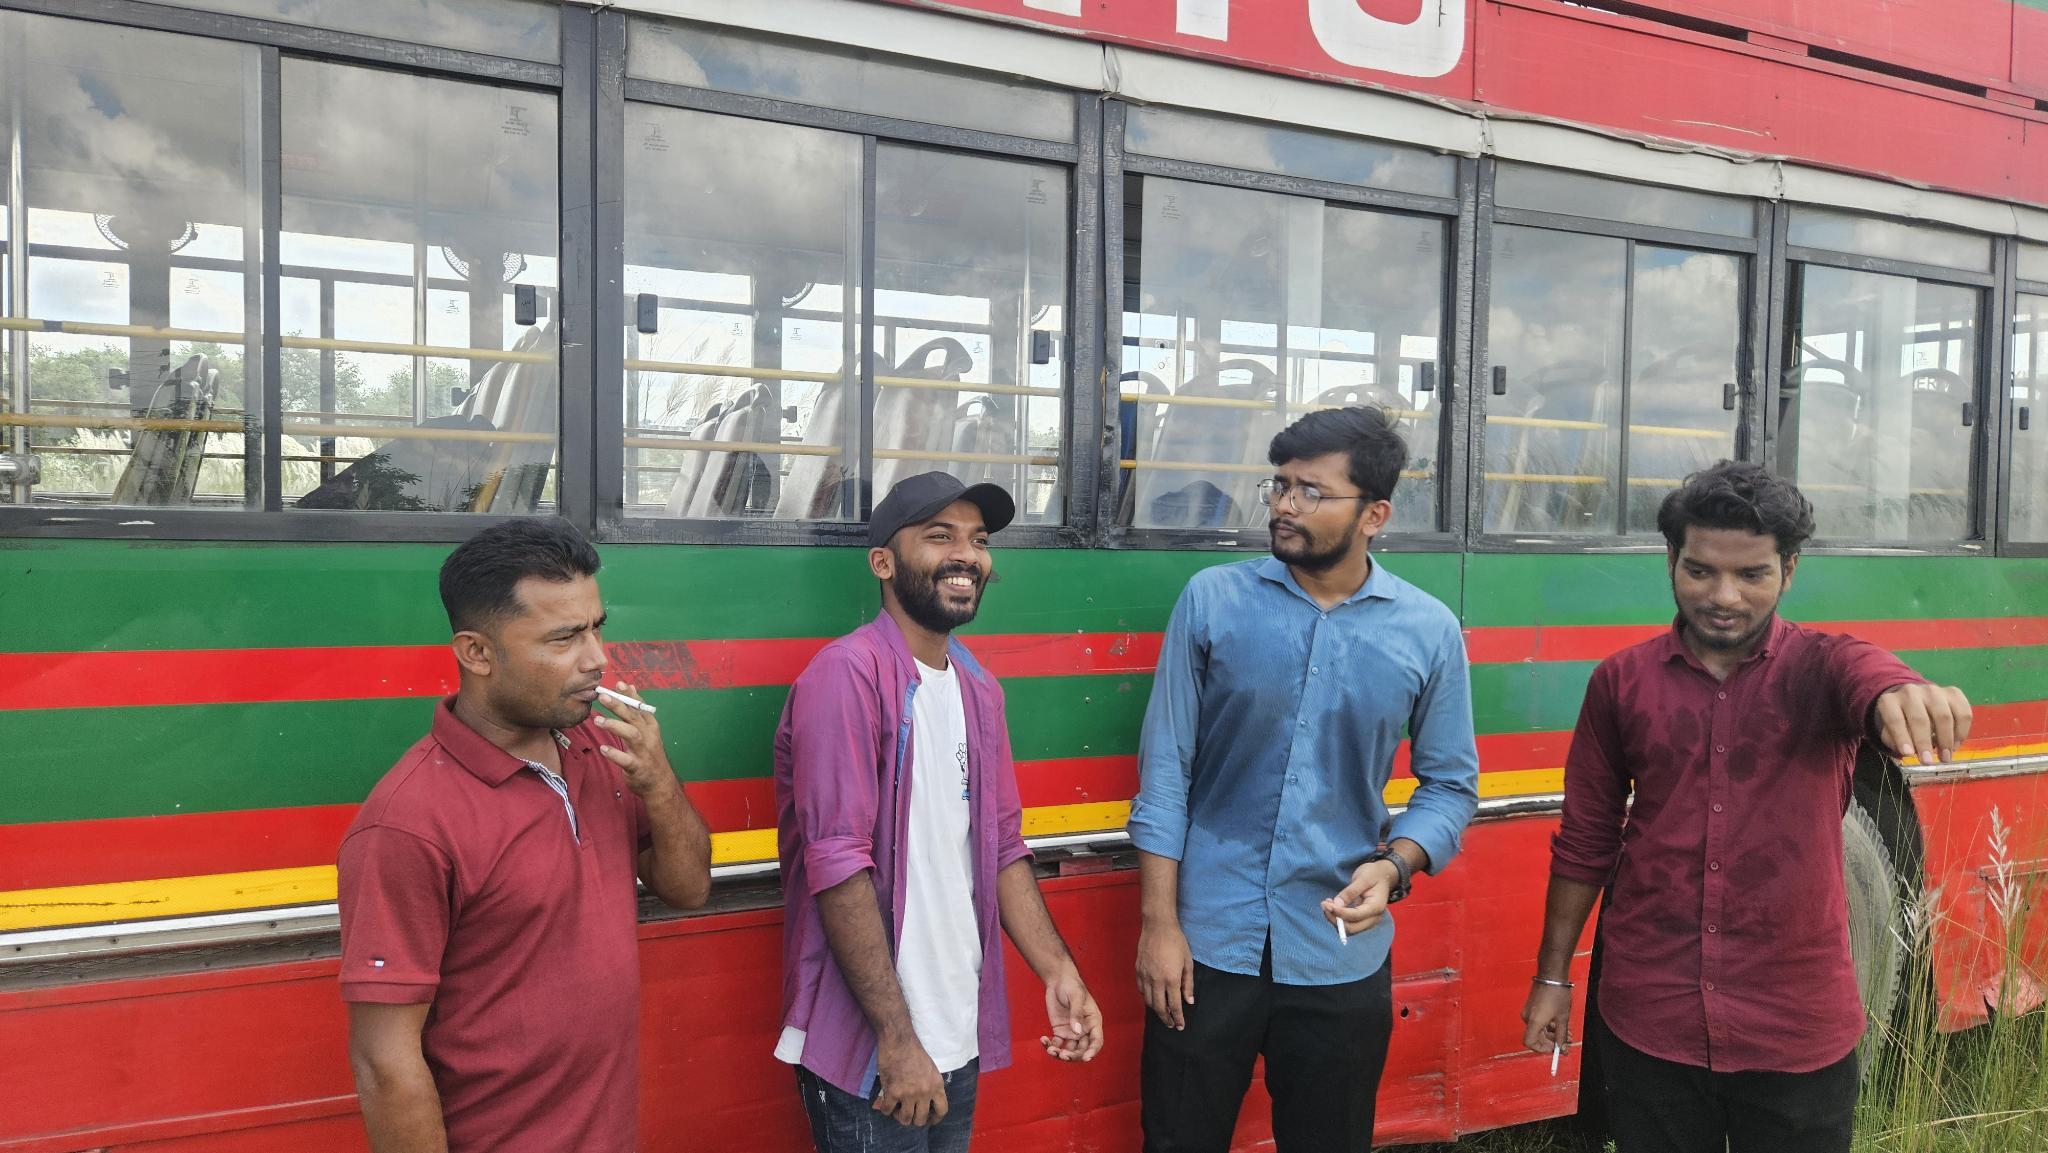cigarette: (594, 683, 660, 717), (1549, 1039, 1563, 1078), (1335, 914, 1349, 948)
nonSmoker: (772, 471, 1106, 1153)
smoker: (1521, 456, 1973, 1153), (1127, 406, 1478, 1153), (336, 519, 713, 1153)
